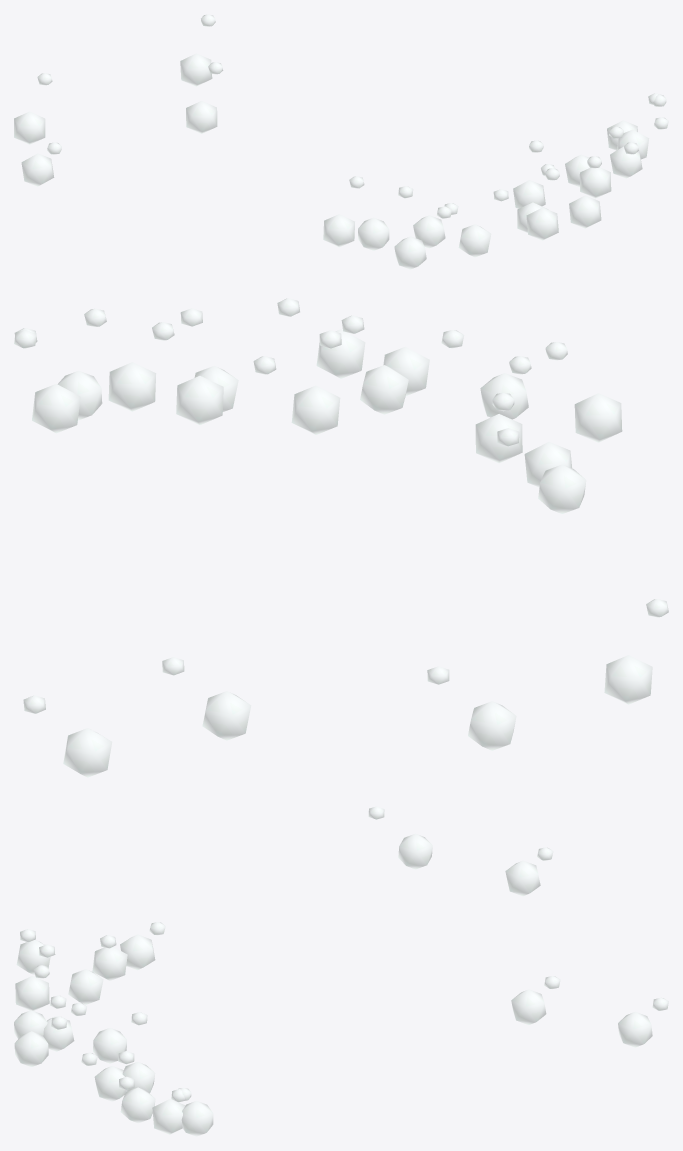
Rendered from model_chunk_11.glb.
The picture shows the model from 3 angles, top to bottom: view 1: azimuth 30°, elevation 25°; view 2: azimuth 150°, elevation 25°; view 3: azimuth 270°, elevation 25°; orthographic projection. The views are drawn at different scales.
Parts seen in each view (by area): view 1: SplashParticle01367, SplashParticle01352, SplashParticle01371, SplashParticle01390, SplashParticle01396, SplashParticle01355, SplashParticle01382, SplashParticle01400, SplashParticle01353, SplashParticle01362, SplashParticle01358, SplashParticle01405 (+6 smaller); view 2: SplashParticle01404, SplashParticle01405, SplashParticle01353, SplashParticle01362, SplashParticle01395, SplashParticle01352, SplashParticle01382, SplashParticle01367, SplashParticle01371, SplashParticle01394, SplashParticle01361, SplashParticle01406 (+6 smaller); view 3: SplashParticle01358, SplashParticle01362, SplashParticle01382, SplashParticle01396, SplashParticle01355, SplashParticle01367, SplashParticle01371, SplashParticle01361, SplashParticle01405, SplashParticle01395, SplashParticle01352, SplashParticle01406 (+6 smaller).
Part boxes in pixels (x1,y1,x2,y2): SplashParticle01367: (14, 73, 52, 144); SplashParticle01352: (323, 176, 364, 247); SplashParticle01371: (186, 62, 223, 133); SplashParticle01390: (526, 168, 559, 240); SplashParticle01396: (569, 156, 601, 228); SplashParticle01355: (358, 186, 413, 250); SplashParticle01382: (180, 14, 215, 86); SplashParticle01400: (579, 142, 638, 198); SplashParticle01353: (394, 206, 451, 269); SplashParticle01362: (21, 142, 61, 186); SplashParticle01358: (458, 189, 508, 257); SplashParticle01405: (610, 117, 668, 178); SplashParticle01404: (152, 322, 223, 424); SplashParticle01405: (84, 308, 156, 411); SplashParticle01353: (545, 342, 622, 442); SplashParticle01362: (604, 599, 668, 704); SplashParticle01395: (253, 356, 340, 434); SplashParticle01352: (497, 428, 586, 513); SplashParticle01382: (23, 695, 112, 777); SplashParticle01367: (427, 666, 516, 750); SplashParticle01371: (162, 657, 251, 740); SplashParticle01394: (319, 330, 408, 414); SplashParticle01361: (475, 356, 531, 463); SplashParticle01406: (14, 328, 80, 433); SplashParticle01358: (15, 965, 49, 1010); SplashParticle01362: (368, 806, 432, 869); SplashParticle01382: (618, 997, 668, 1047); SplashParticle01396: (14, 1016, 67, 1066); SplashParticle01355: (92, 935, 127, 980); SplashParticle01367: (505, 847, 553, 896); SplashParticle01371: (511, 976, 560, 1024); SplashParticle01361: (39, 944, 103, 1004); SplashParticle01405: (119, 1076, 155, 1123); SplashParticle01395: (93, 1012, 147, 1063); SplashParticle01352: (120, 922, 165, 970); SplashParticle01406: (171, 1089, 213, 1136).
Size of the model in its own units: 0.7546 by 0.1303 by 0.743.
Materials: 1 (1 with a texture image).
